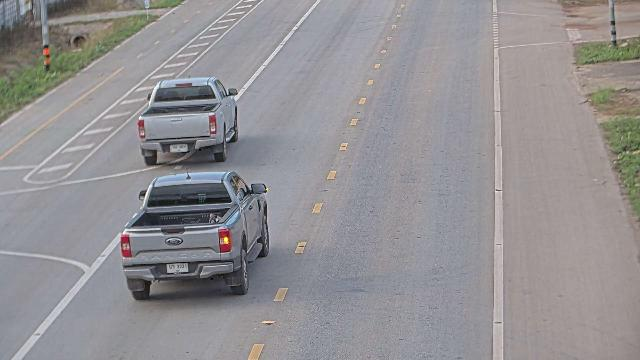pickup-truck: (120, 169, 270, 300), (136, 76, 239, 165)
